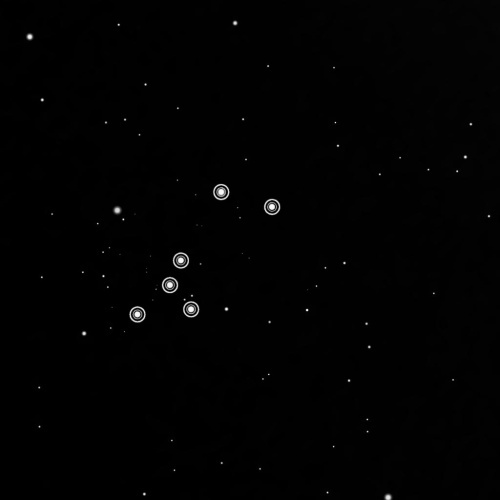canis_major: (125, 179, 290, 328)
